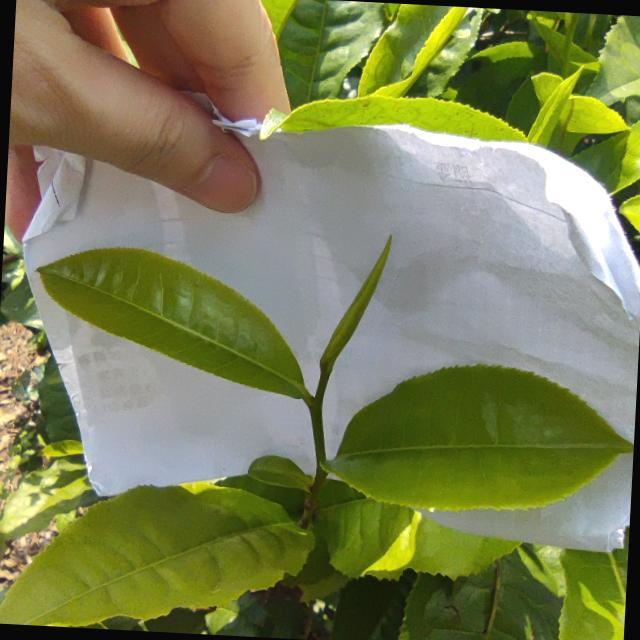Stem: (309, 406, 322, 421)
